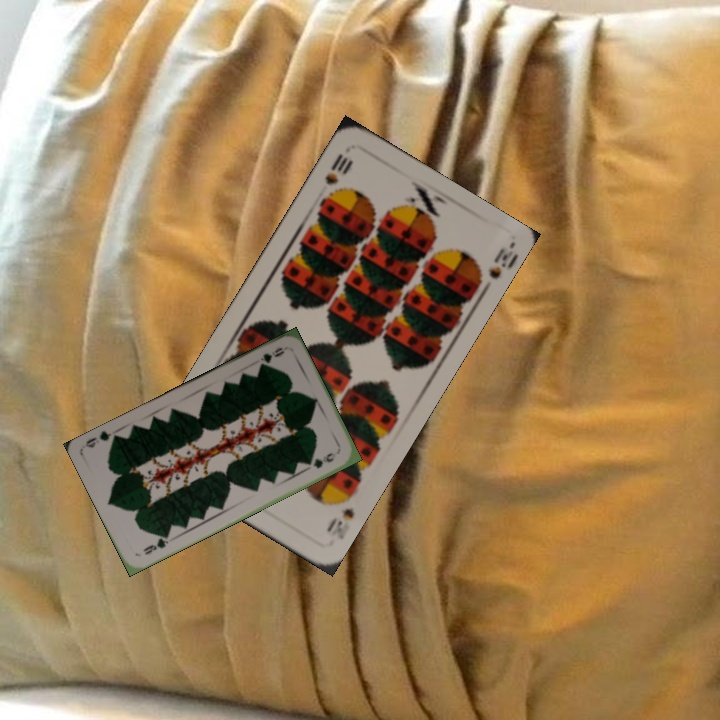G9: (255, 343, 287, 371), (139, 530, 171, 557)
S10: (322, 489, 357, 542), (320, 149, 356, 188)
